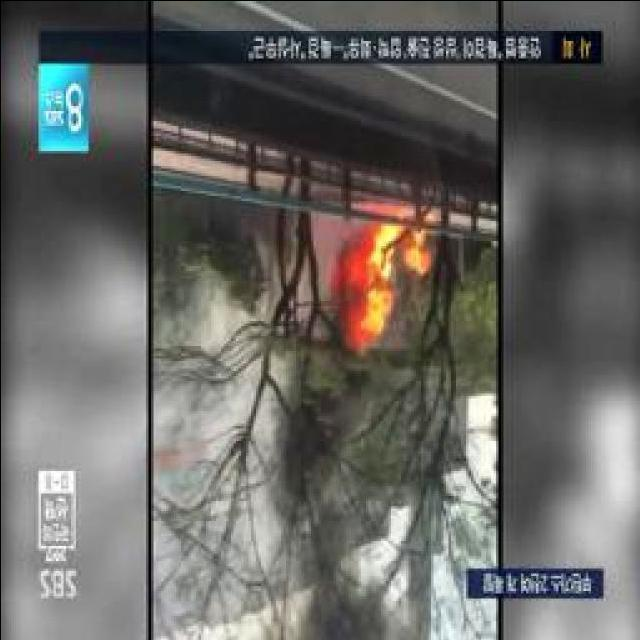Fire: (340, 215, 406, 328), (413, 208, 429, 274)
